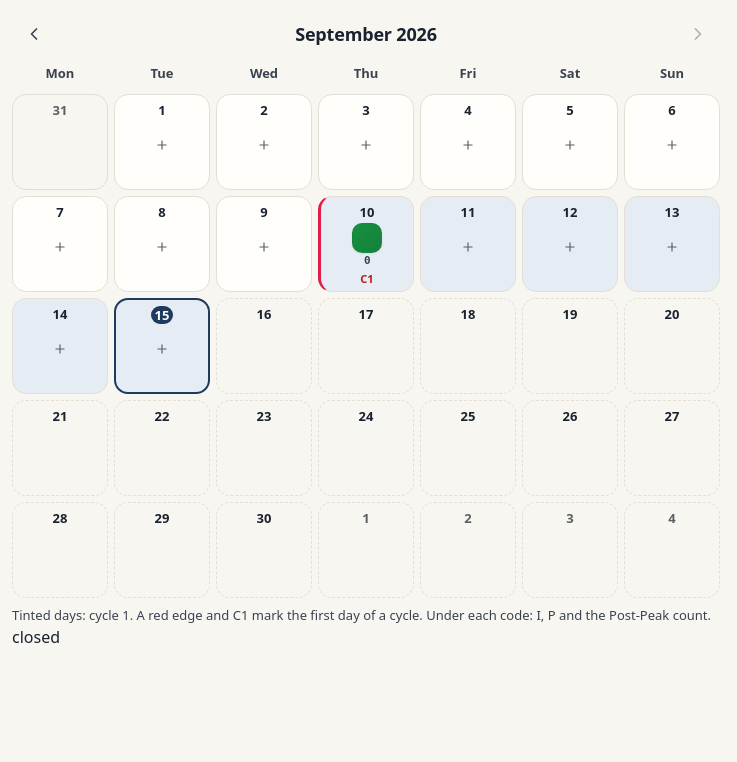
Scenario: CalendarGrid navigation and selection › moves to the previous month and back to the current month
The width and height of the screenshot is (737, 762).
Step 1. Click the button named "Previous month" → (34, 34), box [12, 12, 56, 56]
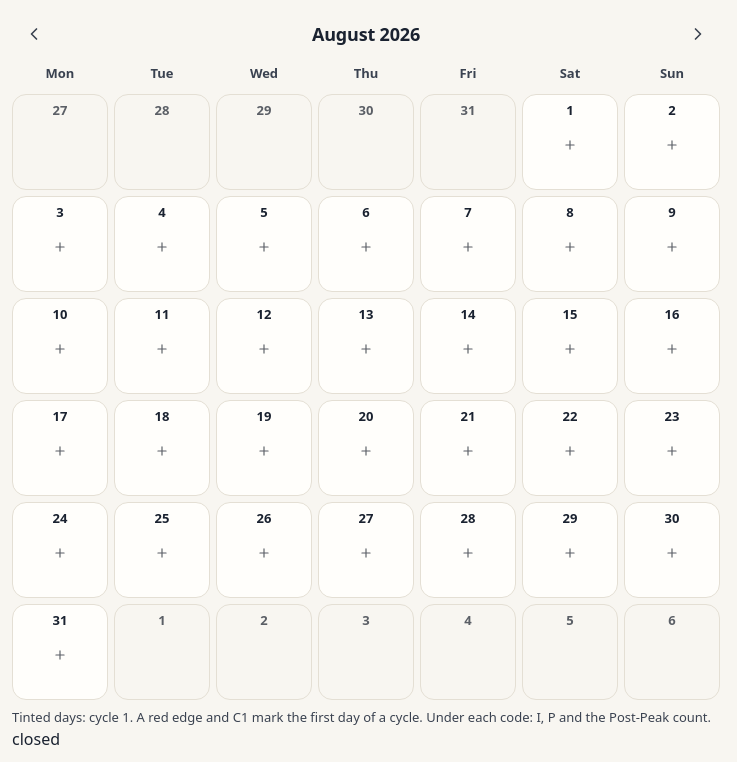
Now the heading "August 2026" is shown, box [312, 20, 420, 48]
Step 2. Click the button named "Next month" → (698, 34), box [676, 12, 720, 56]
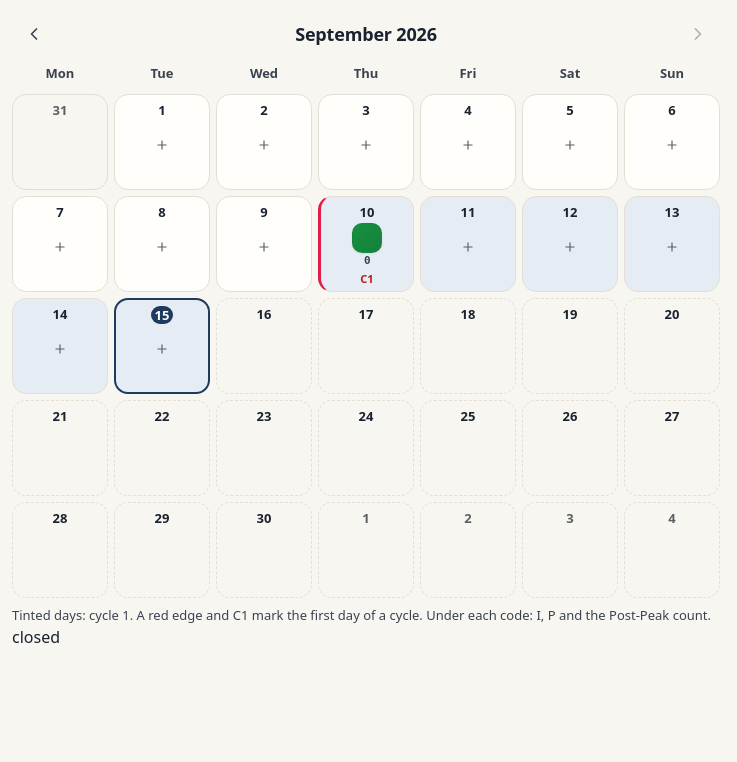
Now the heading "September 2026" is shown, box [295, 20, 437, 48]
